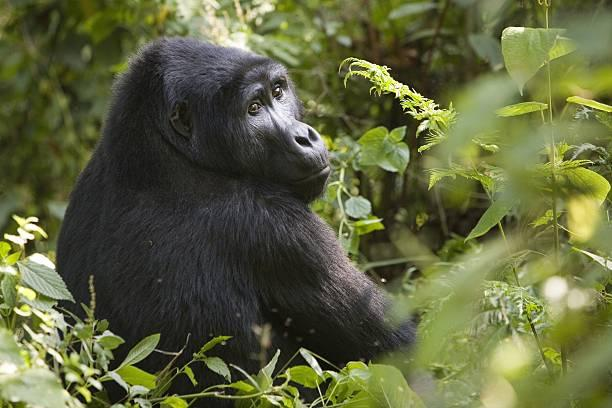gorille_Autres: (45, 26, 417, 386)
